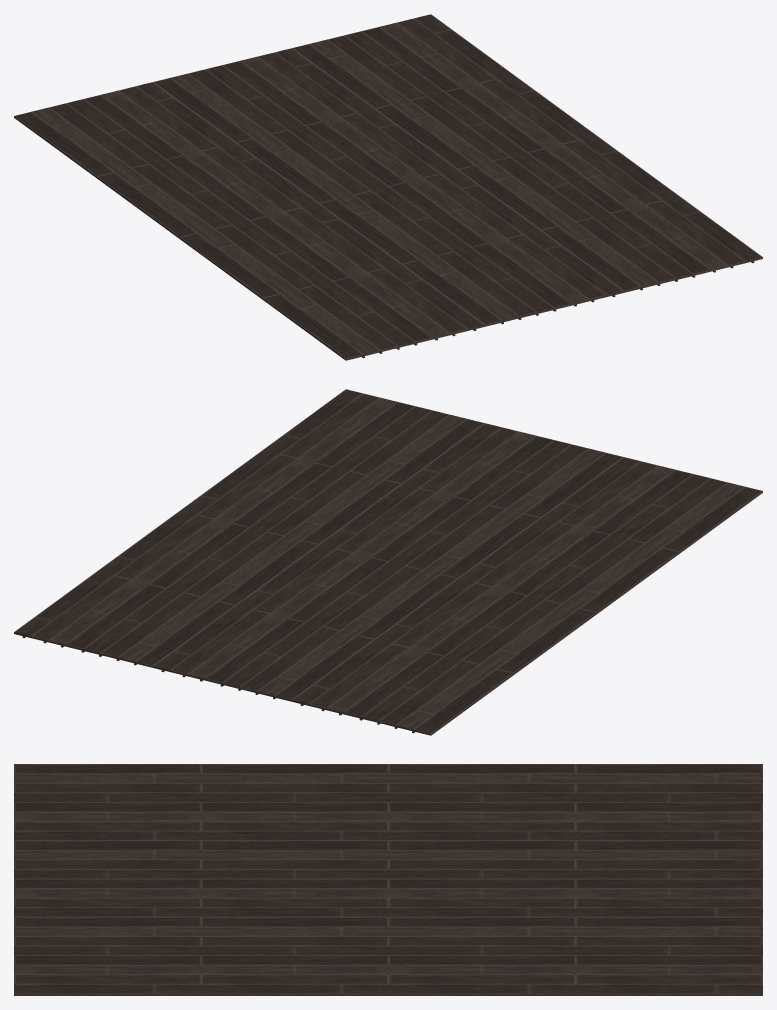
The model's file is 1-2_Floor_Down.fbx.
The picture shows the model from 3 angles, top to bottom: view 1: azimuth 30°, elevation 25°; view 2: azimuth 150°, elevation 25°; view 3: azimuth 270°, elevation 25°; orthographic projection. The views are drawn at different scales.
Parts seen in each view (by area): view 1: Combined Mesh [1-2_Floor_Down]; view 2: Combined Mesh [1-2_Floor_Down]; view 3: Combined Mesh [1-2_Floor_Down].
Part boxes in pixels (<box>): Combined Mesh [1-2_Floor_Down]: <box>14,14,762,360</box>; Combined Mesh [1-2_Floor_Down]: <box>14,389,762,735</box>; Combined Mesh [1-2_Floor_Down]: <box>14,764,762,995</box>.
Size of the model in its own units: 3.6 by 0.03 by 4.96.
